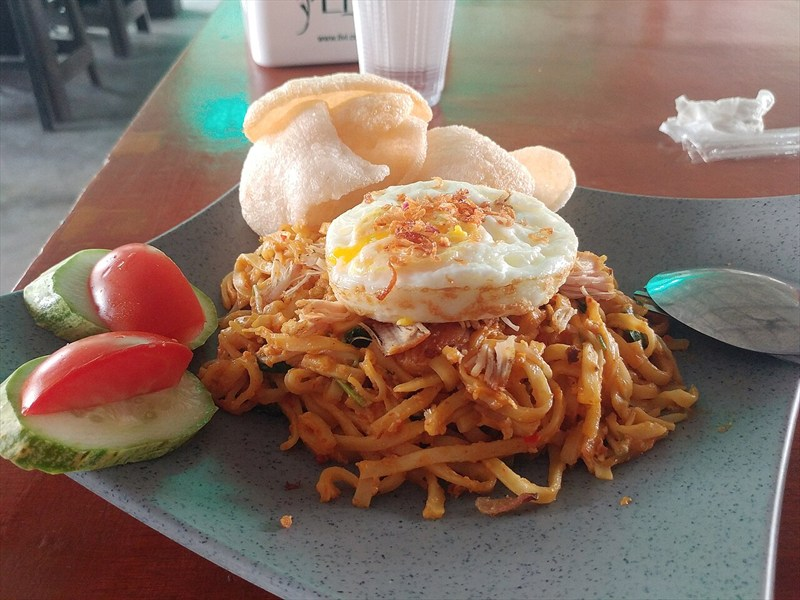Mie Goreng: (42, 79, 663, 491)
